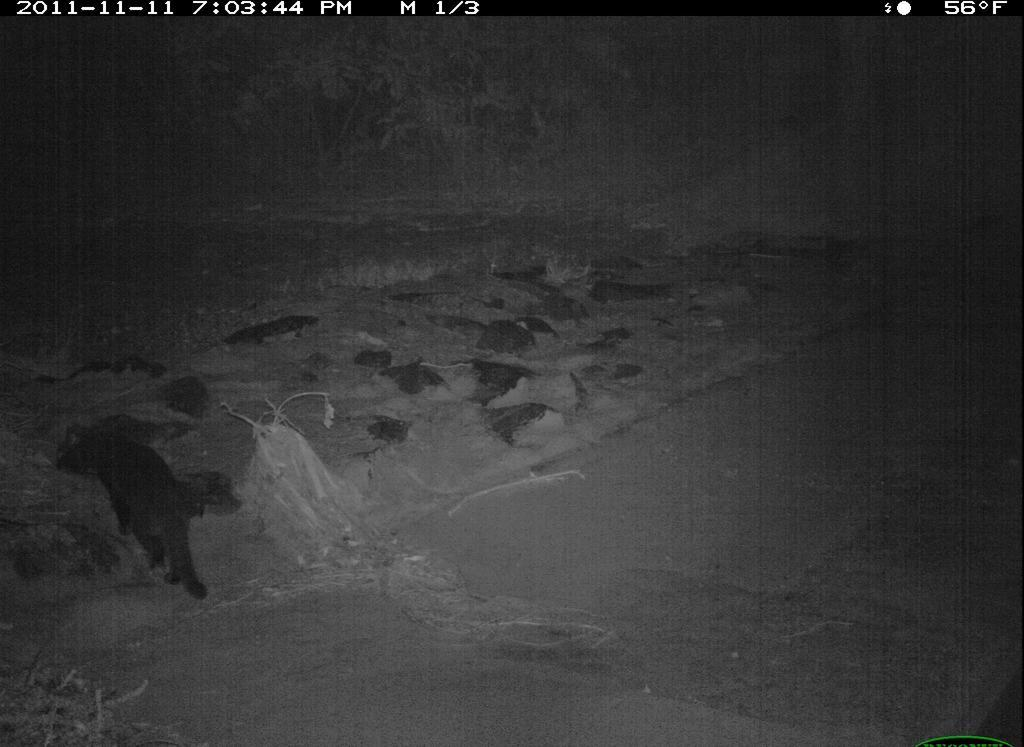cat: (39, 406, 221, 617)
